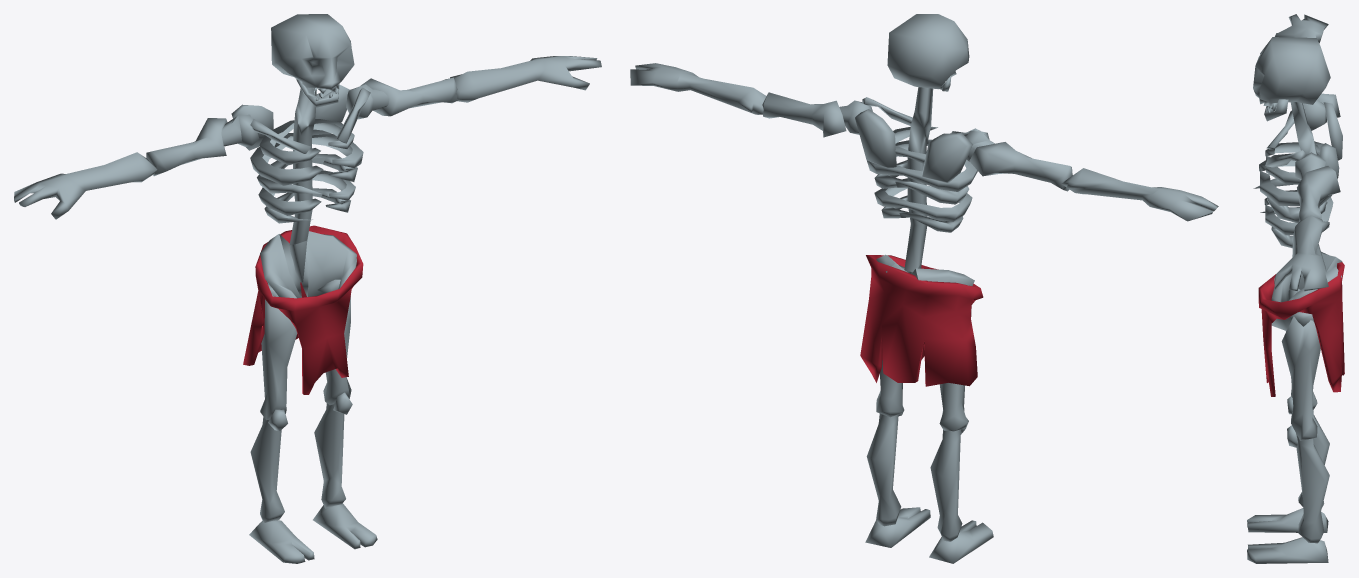
Rendered from Skeleton_parts.fbx.
3 renders of one model, left to right at view 1: azimuth 30°, elevation 25°; view 2: azimuth 150°, elevation 25°; view 3: azimuth 270°, elevation 25°, orthographic. The views are drawn at different scales.
Parts seen in each view (by area): view 1: Skeleton_parts, Skeleton_Parts, skeleton_parts, skeleton_parts.001; view 2: Skeleton_parts, Skeleton_Parts, skeleton_parts, skeleton_parts.001; view 3: Skeleton_parts, Skeleton_Parts, skeleton_parts.001, skeleton_parts.
Part boxes in pixels (x1,y1,x2,y2): Skeleton_parts: (243,225,377,563); Skeleton_Parts: (231,56,601,245); skeleton_parts: (14,116,242,219); skeleton_parts.001: (271,14,354,107); Skeleton_parts: (860,254,993,563); Skeleton_Parts: (630,63,989,271); skeleton_parts: (969,134,1218,221); skeleton_parts.001: (887,14,969,91); Skeleton_parts: (1247,251,1344,563); Skeleton_Parts: (1253,100,1342,291); skeleton_parts.001: (1253,37,1330,121); skeleton_parts: (1274,14,1340,117).
Size of the model in its own units: 499 by 423 by 75.02.
